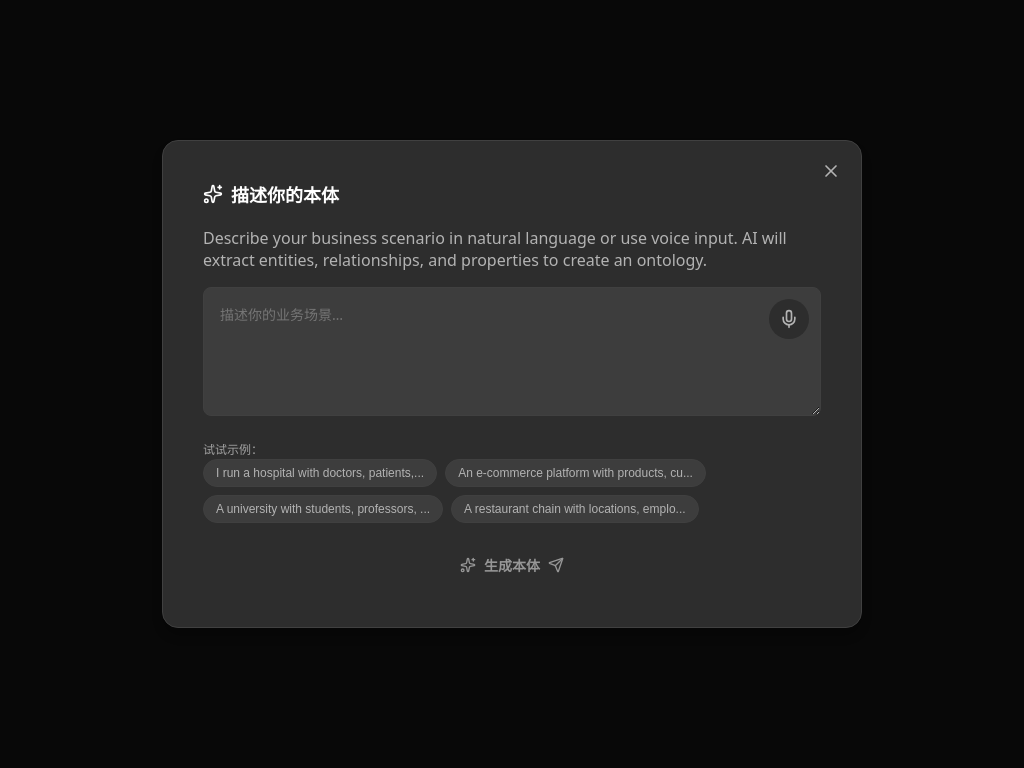
it: NLBuilderModal validation › rejects malformed generated ontology field types
Type "Track products in inventory" into the text box with placeholder "描述你的业务场景…". click: point(512, 352)
box: [203,287,821,416]
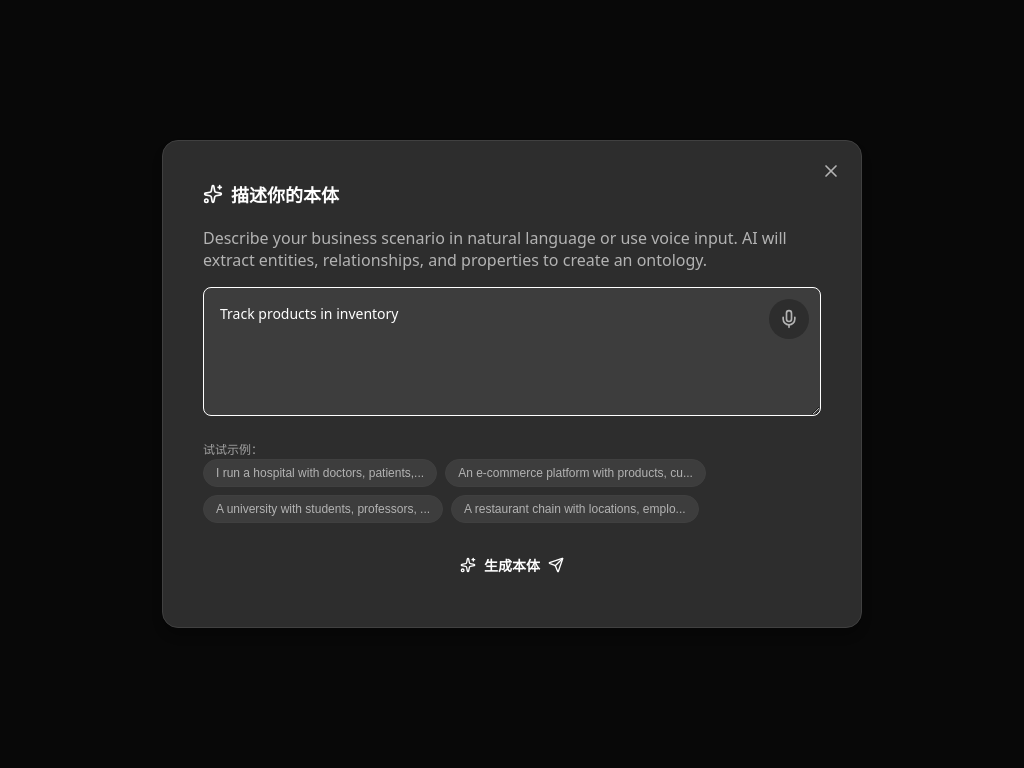
Click the button "生成本体". click: point(512, 565)
box: [203,543,821,587]
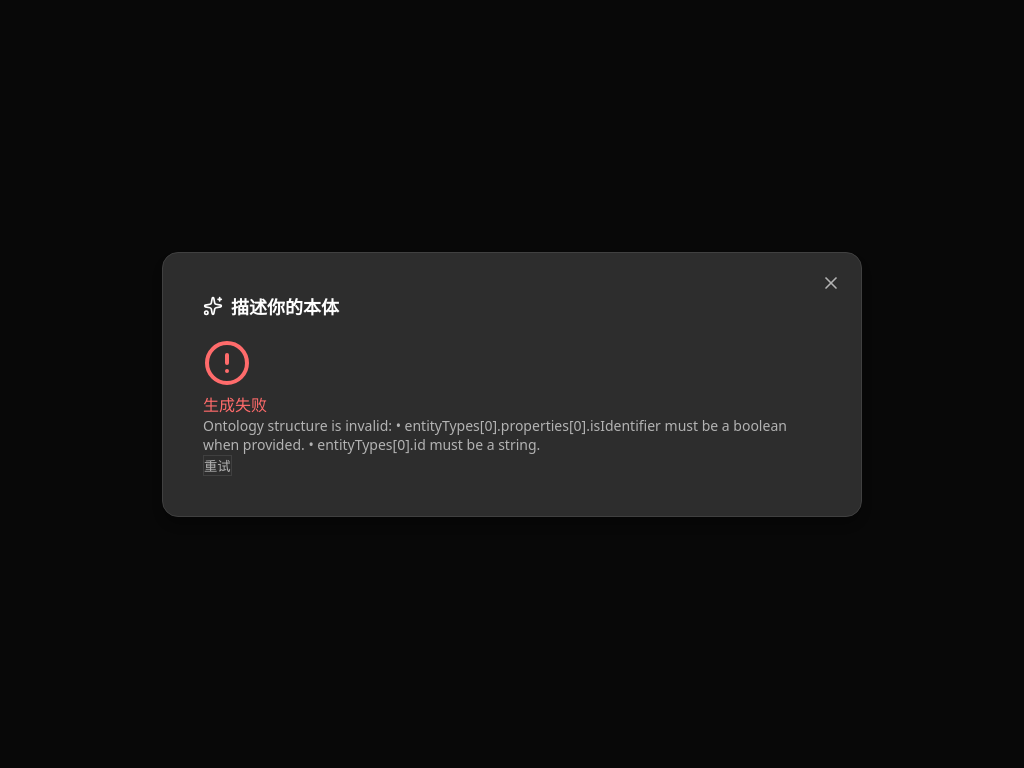
Check: the text "生成失败" is shown, box [203,394,267,416]
Check: the text "isIdentifier must be a boolean" is shown, box [203,416,787,454]
